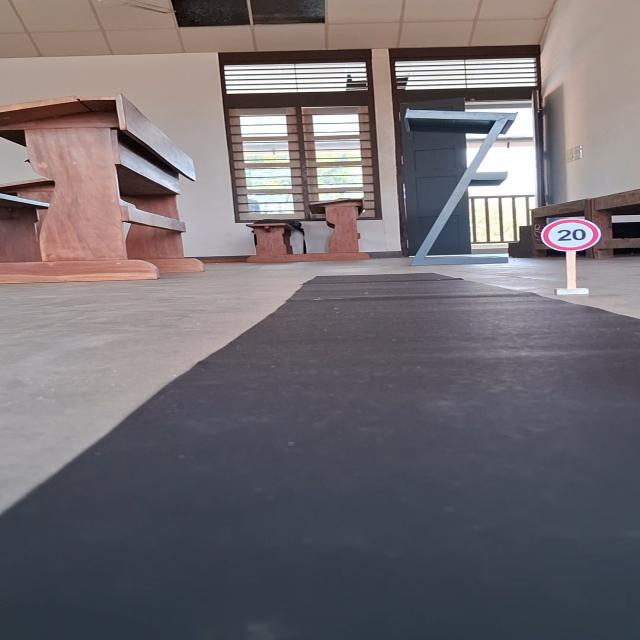Speed20: (540, 216, 604, 252)
